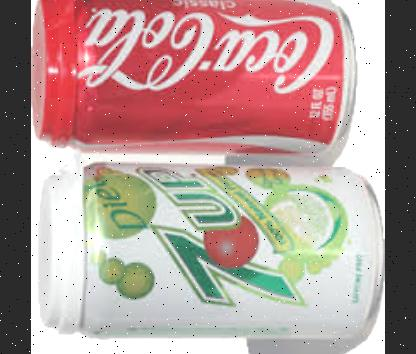Can: (38, 161, 385, 354), (31, 0, 358, 162)
